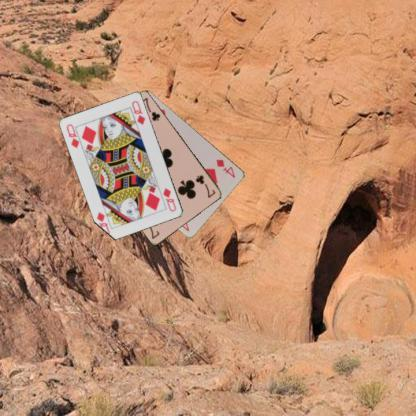4d: (214, 156, 236, 180)
7c: (194, 172, 216, 199)
Qd: (64, 121, 84, 150), (160, 186, 178, 212)
